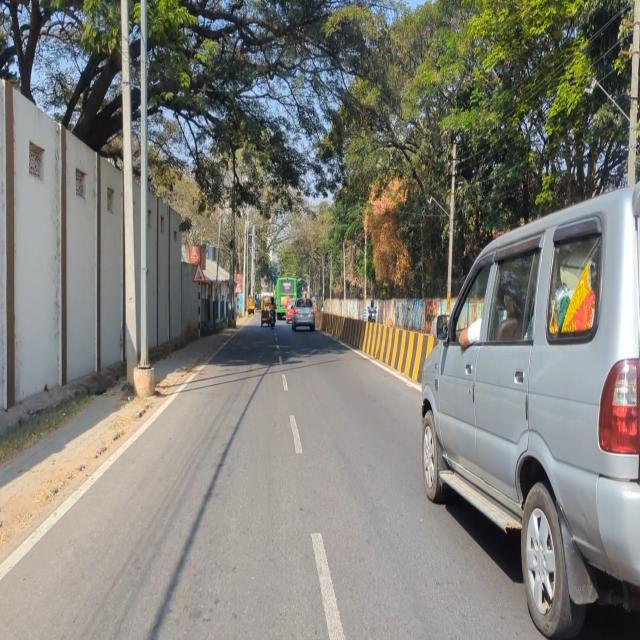bien_cam: (193, 262, 206, 284), (234, 281, 242, 293)
